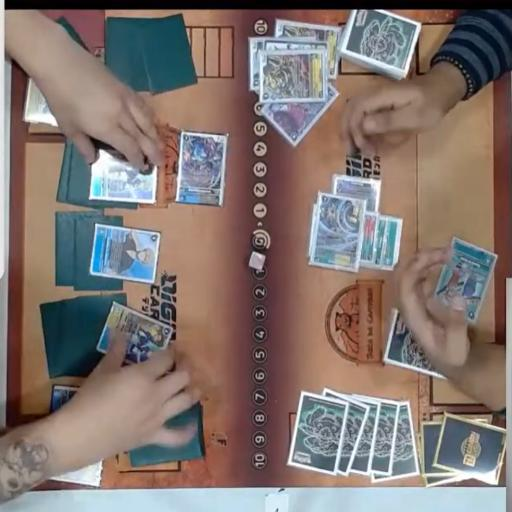card: (94, 298, 178, 366), (432, 232, 493, 322), (260, 85, 338, 146), (308, 188, 360, 277), (85, 147, 159, 203), (88, 228, 163, 283), (175, 133, 225, 210), (276, 18, 340, 74), (258, 50, 328, 98), (332, 172, 382, 218), (377, 221, 406, 272), (356, 212, 380, 268), (368, 212, 390, 268), (47, 383, 80, 415)
